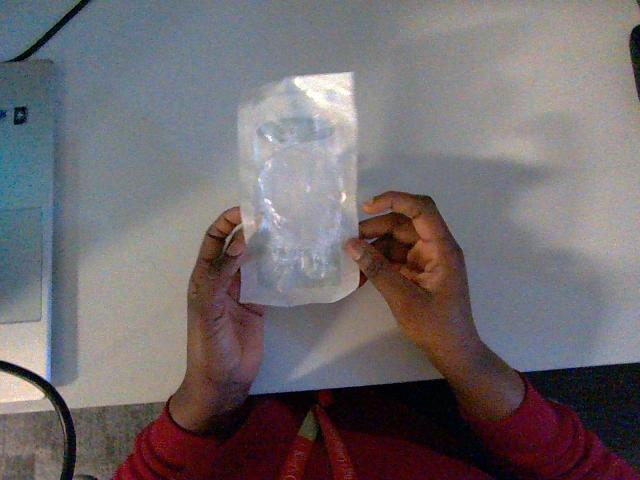gallipot: (238, 73, 358, 305)
